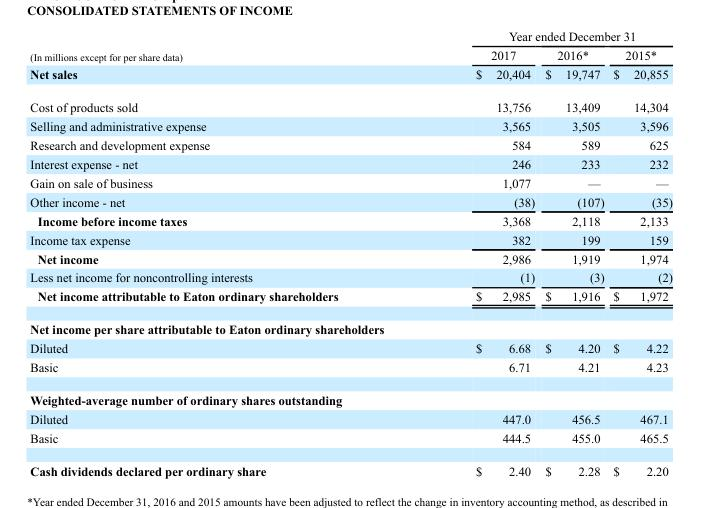table: (29, 29, 671, 477)
table column: (29, 29, 406, 477), (406, 29, 539, 477), (539, 29, 608, 477), (608, 29, 671, 477)
table column header: (29, 29, 671, 64)
table projected row header: (29, 312, 671, 338), (29, 383, 671, 409)
table row: (29, 64, 671, 90), (29, 90, 671, 116), (29, 286, 671, 312), (29, 312, 671, 338), (29, 357, 671, 383), (29, 383, 671, 409), (29, 428, 671, 453), (29, 453, 671, 477), (29, 45, 671, 64), (29, 116, 671, 135), (29, 135, 671, 154), (29, 154, 671, 173), (29, 191, 671, 210), (29, 210, 671, 229), (29, 229, 671, 248), (29, 248, 671, 267), (29, 267, 671, 286), (29, 338, 671, 357), (29, 409, 671, 428), (29, 173, 671, 191), (29, 29, 671, 45)
table spanning cell: (29, 29, 406, 64), (406, 29, 671, 45)
